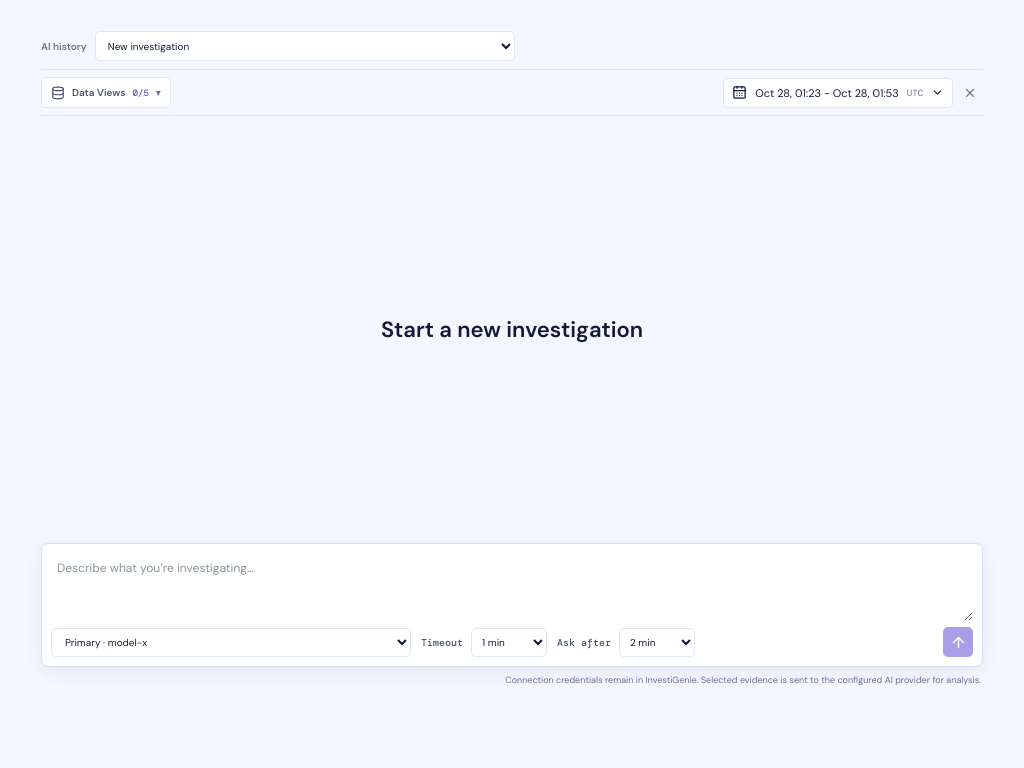
Test case: InvestiGenieAIPage › does not offer knowledge drafts for a awaiting_decision investigation
The image size is (1024, 768).
Expected: the dropdown named "AI model" is shown, [51,628,411,656]
Click the button with aria-label "Choose Data Views" at coordinates (106, 92), box [41,77,171,108]
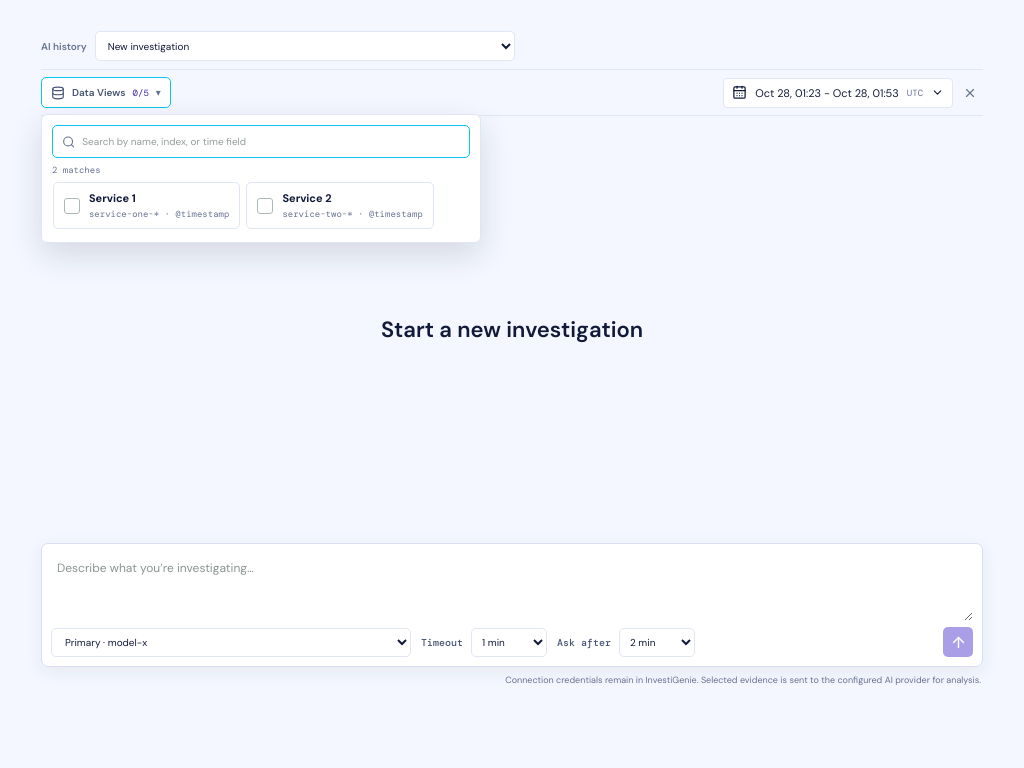
Click the checkbox labelled "Service 1 service-one-* · @timestamp" at coordinates (147, 206), box [53,182,240,229]
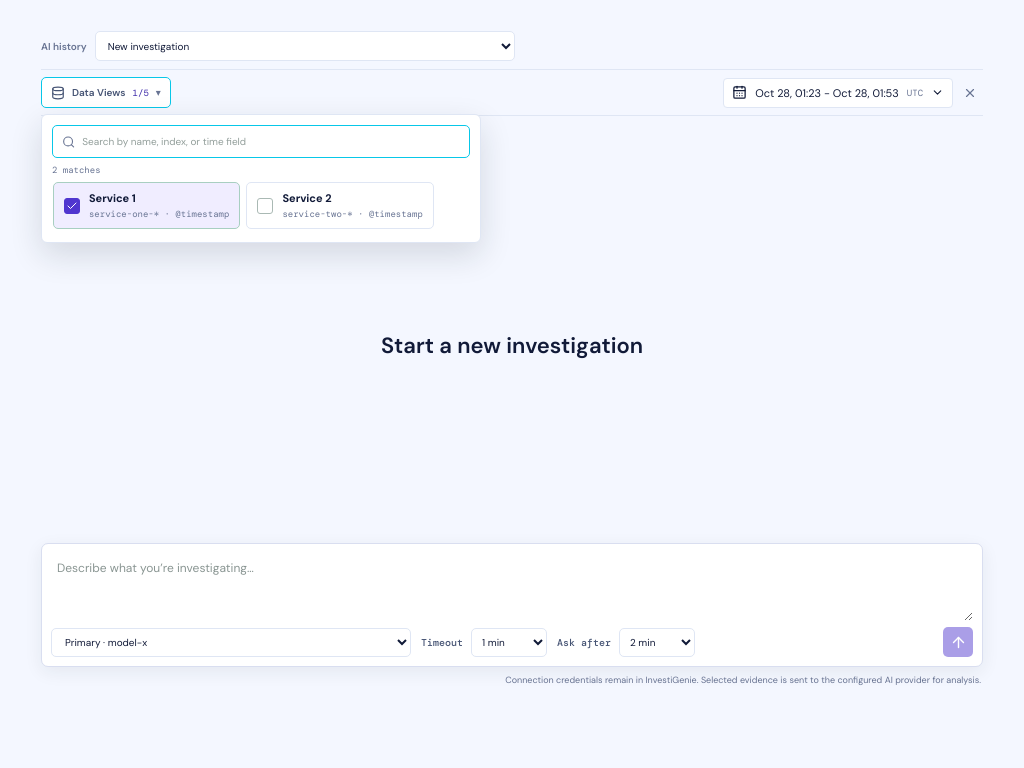
Type "Investigate errors" into the text box named "Ask InvestiGenie AI" at coordinates (512, 587), box [51,553,973,621]
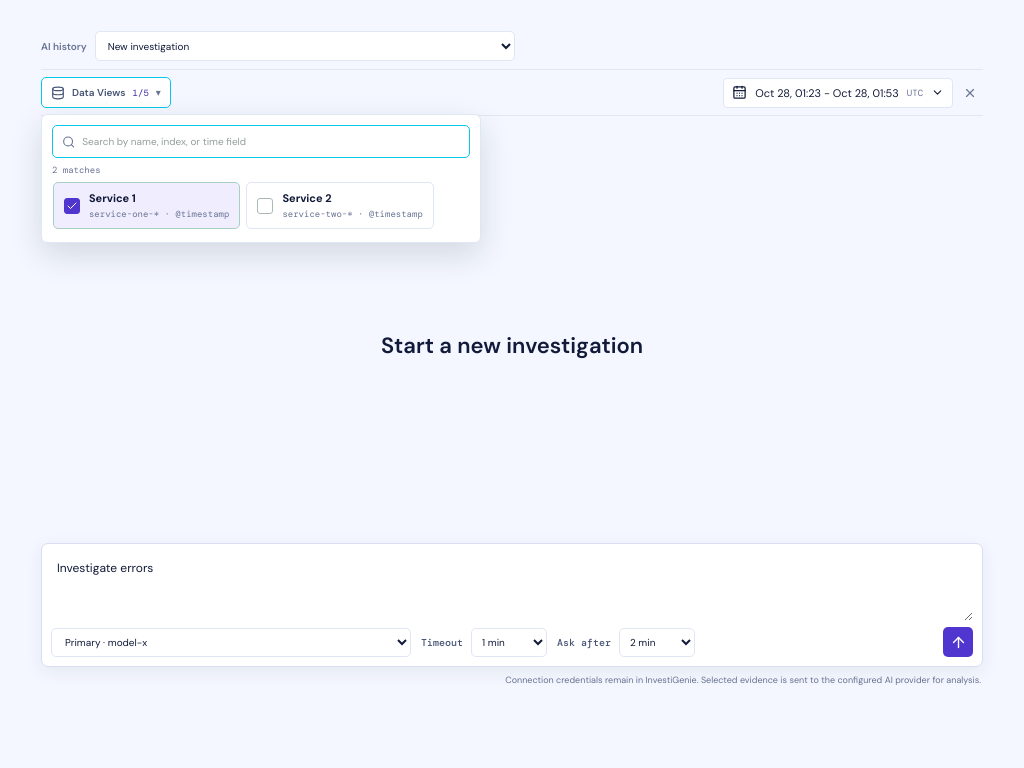
Click the button named "Run investigation" at coordinates (958, 642), box [943,627,973,657]
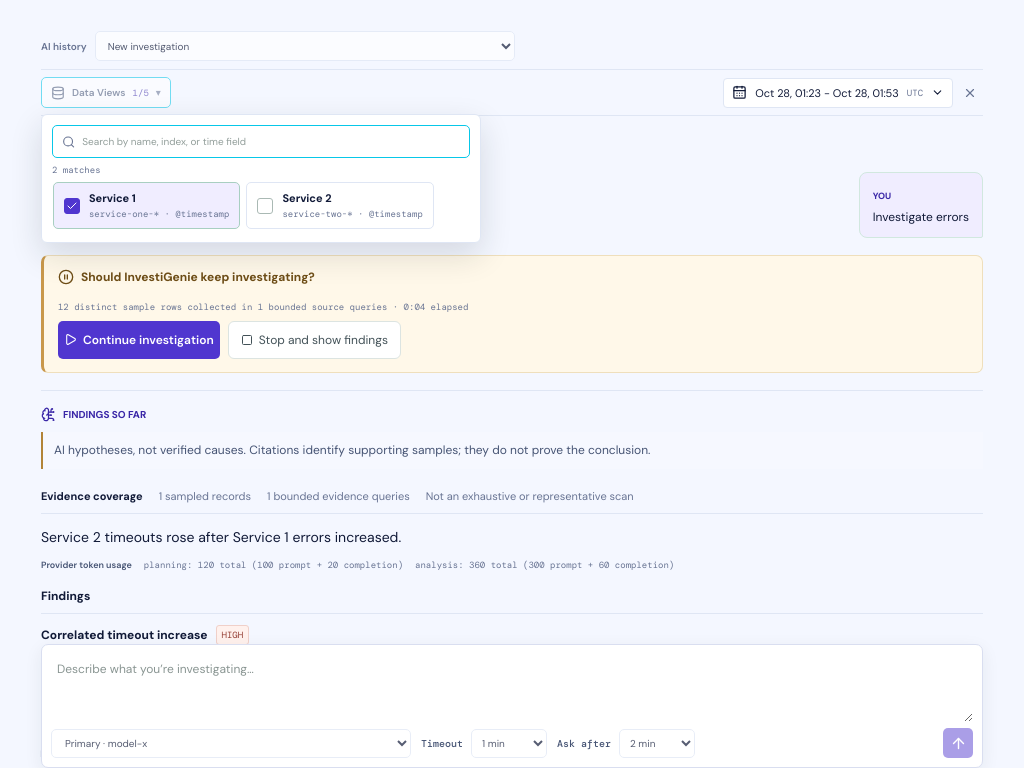
Expected: the text "Service 2 timeouts rose after Service 1 errors increased." is shown, [41,528,401,546]
